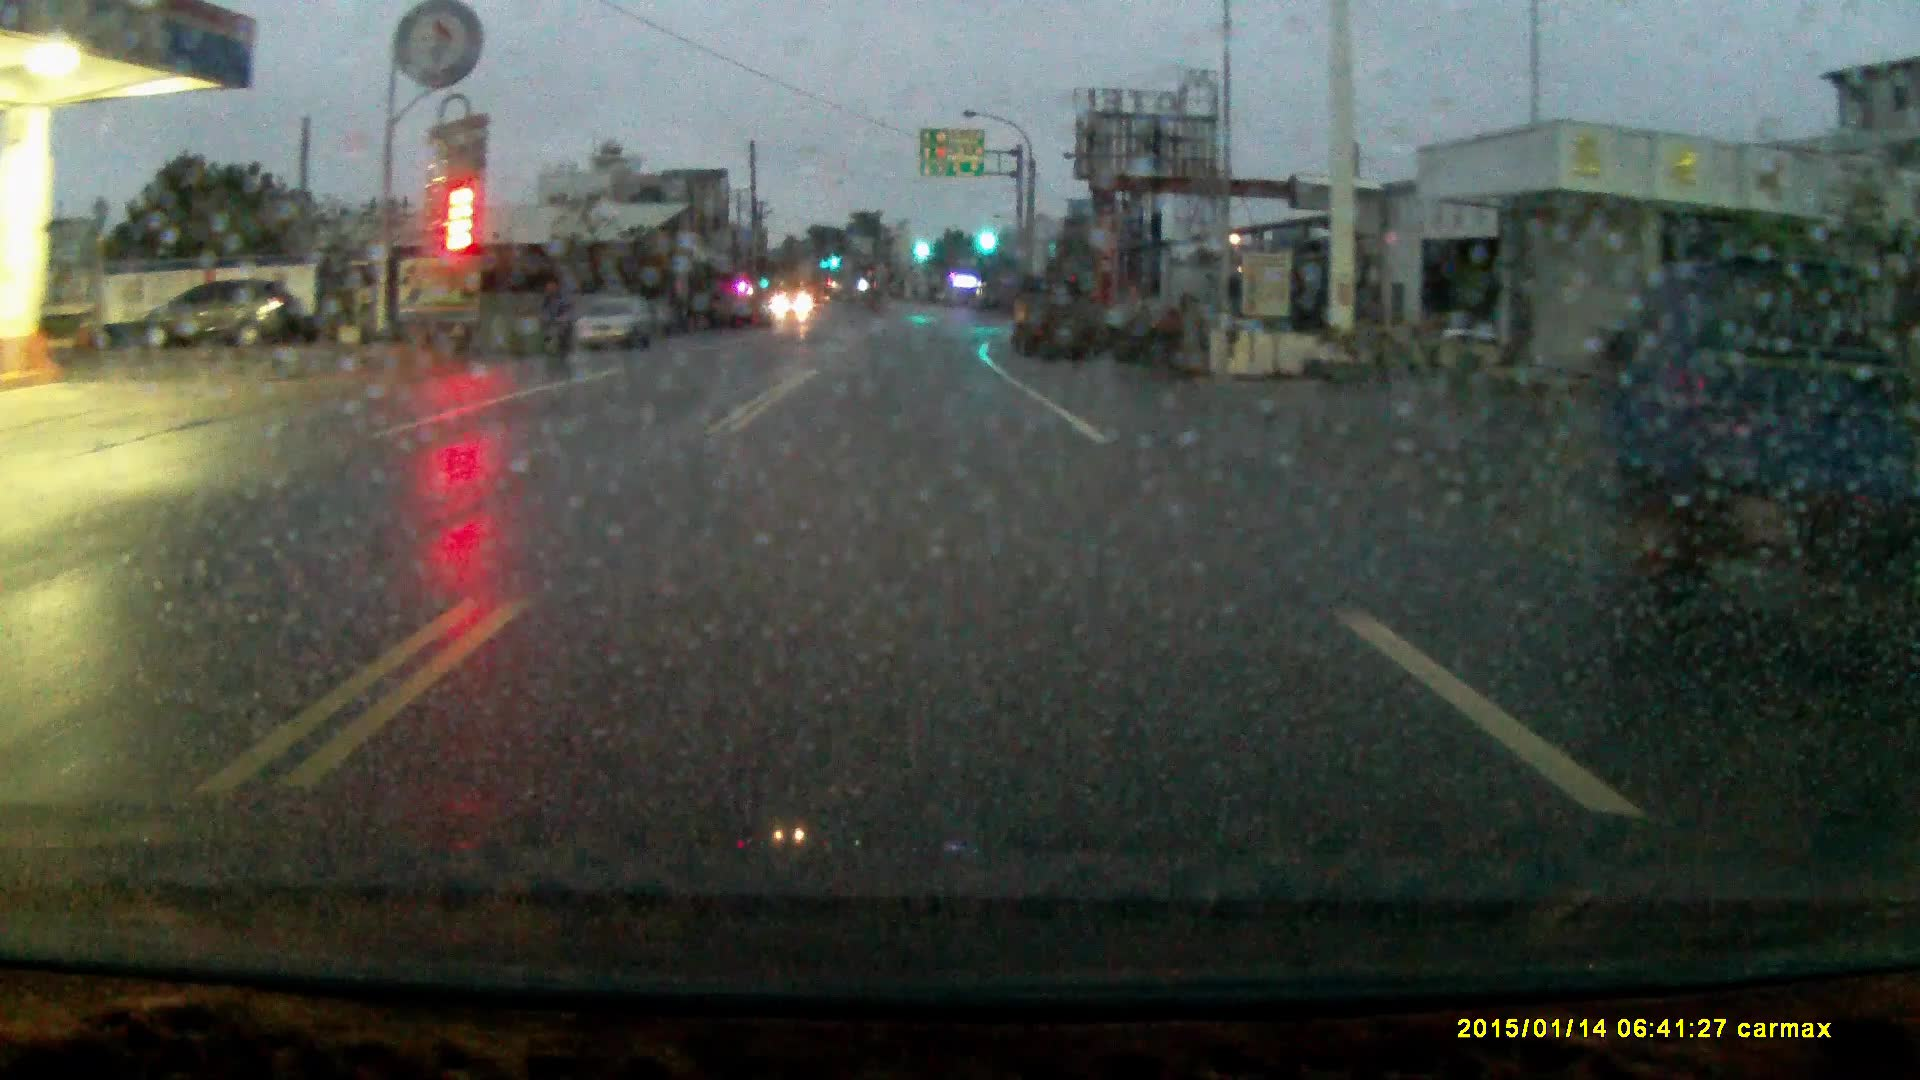rider: (528, 255, 586, 378)
vehicle: (1629, 261, 1888, 583), (132, 279, 306, 349), (1008, 268, 1103, 367), (570, 298, 675, 356)
